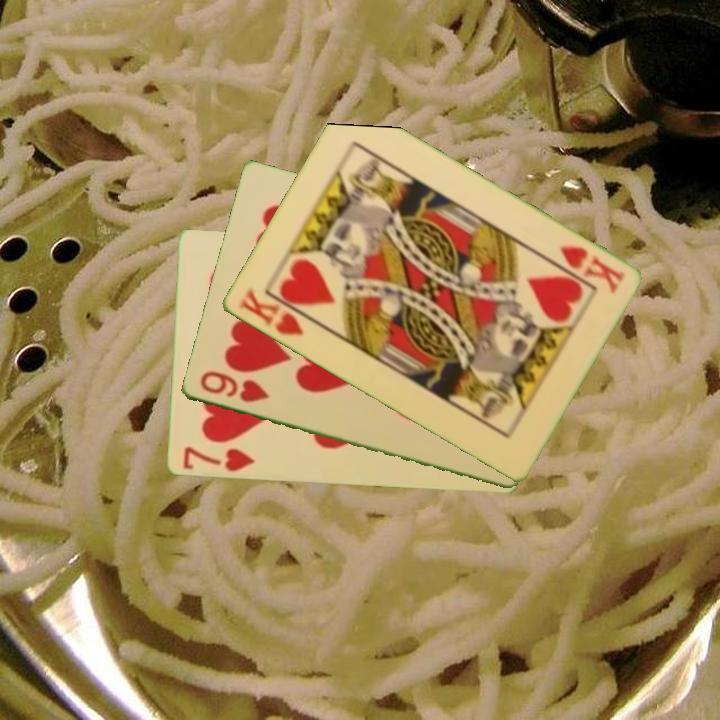7h: (179, 443, 257, 475)
9h: (196, 367, 272, 406)
Kh: (234, 284, 317, 339), (555, 242, 628, 297)
